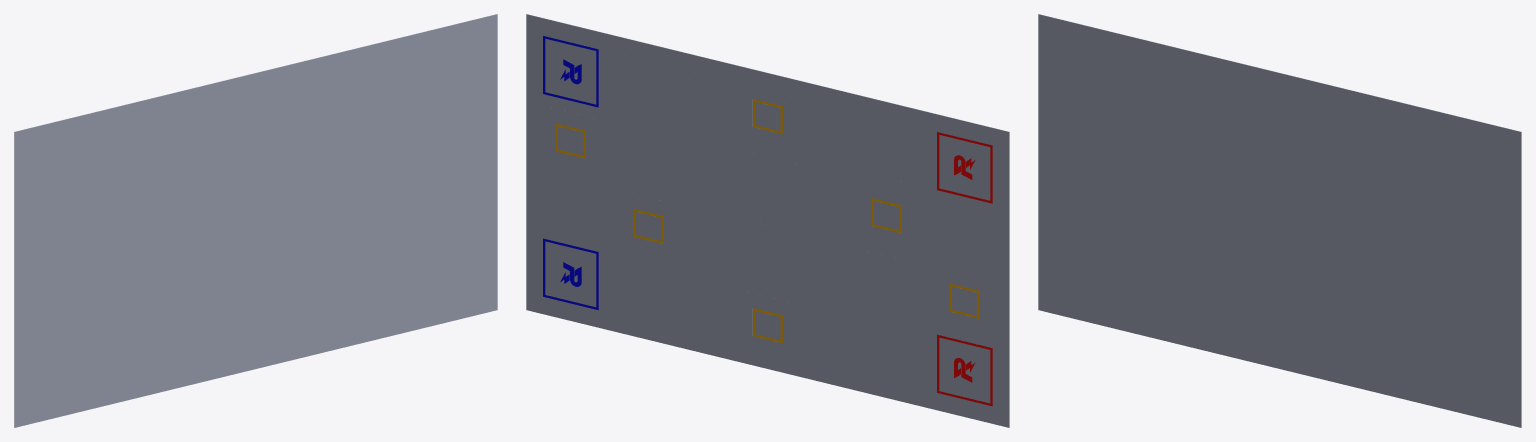
The model's file is rmua_arena_floor.obj.
The picture shows the model from 3 angles, left to right: view 1: azimuth 30°, elevation 25°; view 2: azimuth 150°, elevation 25°; view 3: azimuth 330°, elevation 25°; orthographic projection.
Visible parts, largest first — view 1: 00-AI1702-ZONGZHUANG_ASM/01-AI1702-INSIDE_ASM/AI1702-BASE2; view 2: 00-AI1702-ZONGZHUANG_ASM/01-AI1702-INSIDE_ASM/AI1702-BASE2, 00-AI1702-ZONGZHUANG_ASM/01-AI1702-INSIDE_ASM/AI1702-QDQ-RED, 00-AI1702-ZONGZHUANG_ASM/01-AI1702-INSIDE_ASM/AI1702-QDQ-BLUE; view 3: 00-AI1702-ZONGZHUANG_ASM/01-AI1702-INSIDE_ASM/AI1702-BASE2.
Boxes of the visible parts, x1,y1,x2,y2 form: 00-AI1702-ZONGZHUANG_ASM/01-AI1702-INSIDE_ASM/AI1702-BASE2: (14,14,497,427); 00-AI1702-ZONGZHUANG_ASM/01-AI1702-INSIDE_ASM/AI1702-BASE2: (526,14,1009,427); 00-AI1702-ZONGZHUANG_ASM/01-AI1702-INSIDE_ASM/AI1702-QDQ-RED: (937,132,992,406); 00-AI1702-ZONGZHUANG_ASM/01-AI1702-INSIDE_ASM/AI1702-QDQ-BLUE: (543,36,598,310); 00-AI1702-ZONGZHUANG_ASM/01-AI1702-INSIDE_ASM/AI1702-BASE2: (1038,14,1521,427).
Bounding box in the file's own units: 8680 × 5080 × 10.1.
